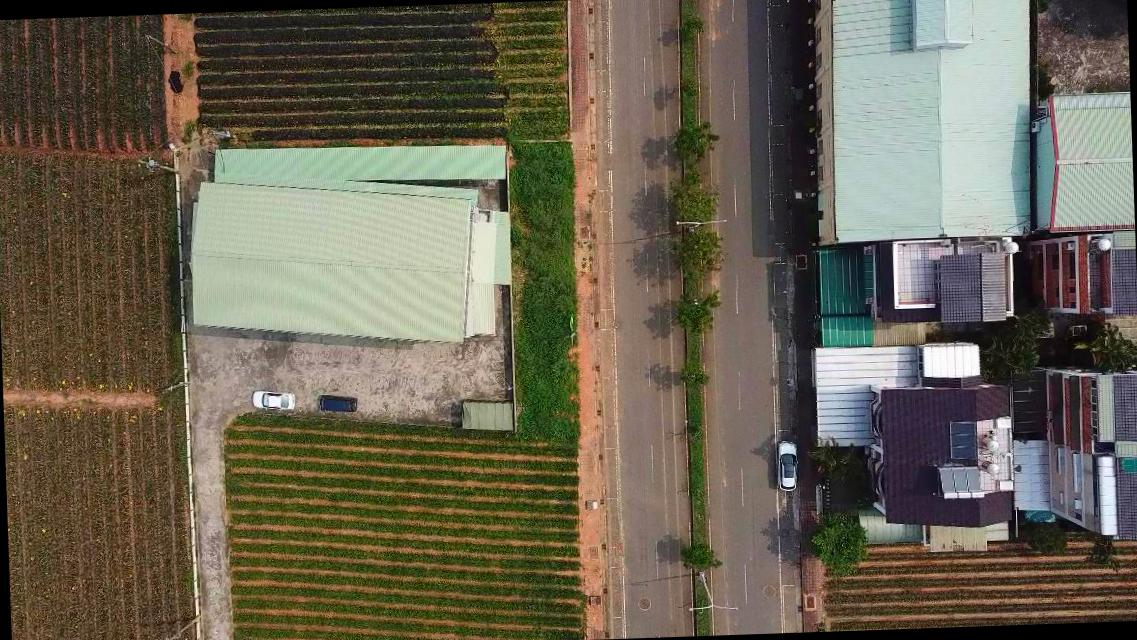vehicle: (775, 438, 800, 492), (249, 388, 296, 412), (317, 392, 358, 416)
